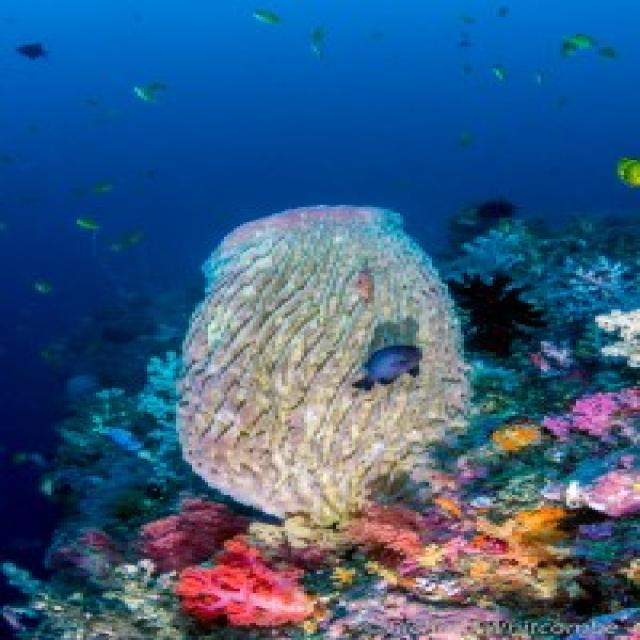Bleached: (180, 206, 468, 522)
Healthy: (180, 387, 638, 639), (23, 554, 187, 639), (180, 536, 315, 626), (113, 487, 238, 571)
